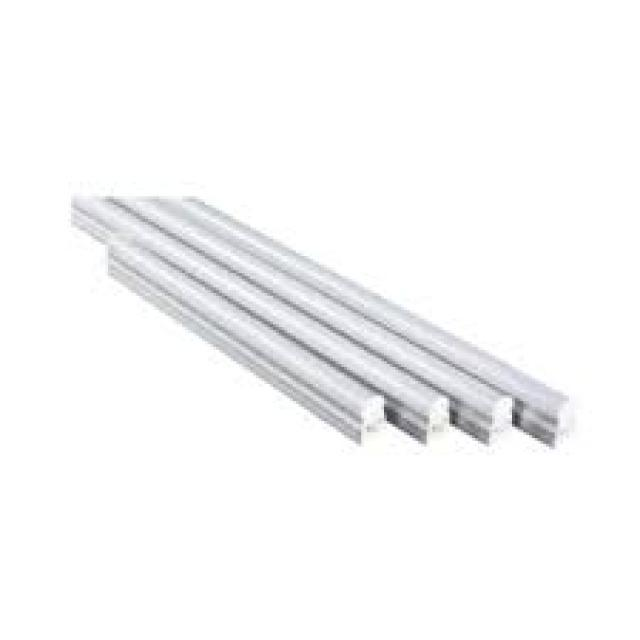tubelight_off: (174, 191, 583, 453), (115, 190, 521, 450), (64, 193, 457, 458), (100, 230, 392, 456)
